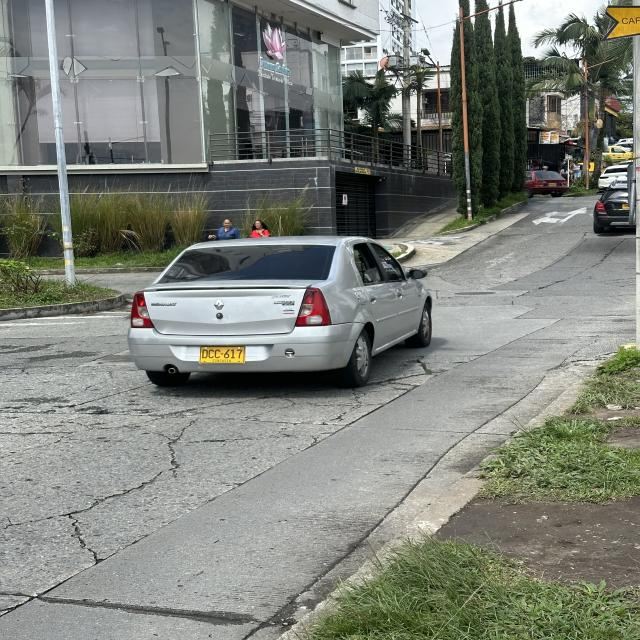number plate: (199, 346, 244, 363)
